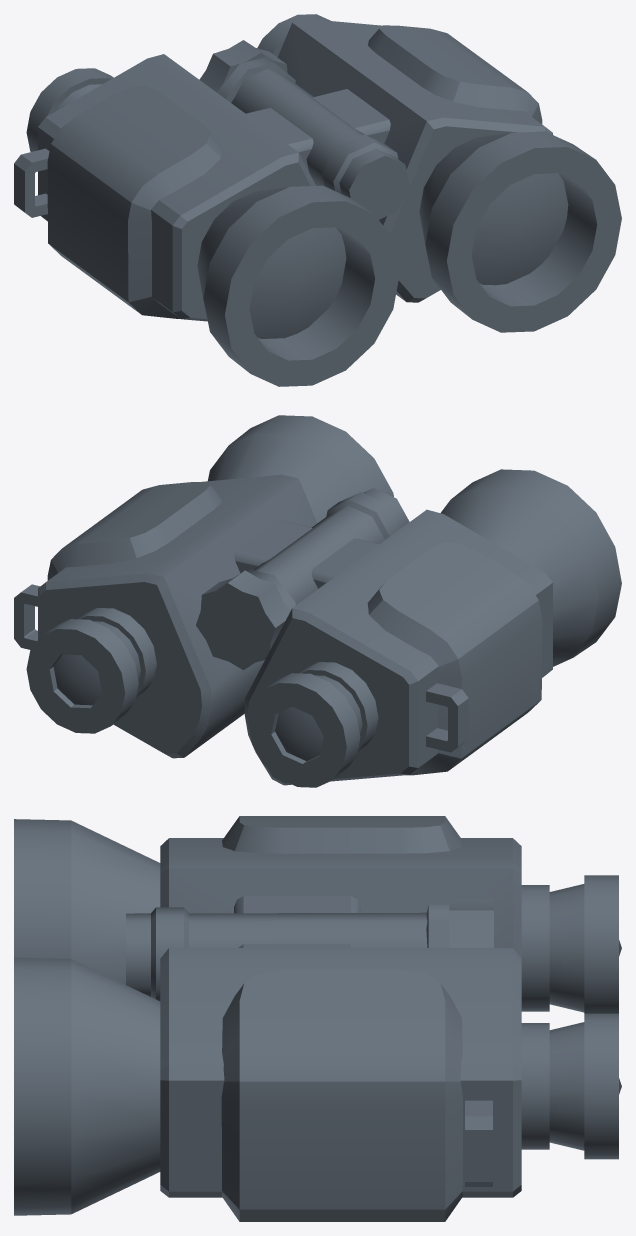
File: char_npc_scoutfarmer_binoculars.fbx
3 views of the same model, one above another, from view 1: azimuth 30°, elevation 25°; view 2: azimuth 150°, elevation 25°; view 3: azimuth 270°, elevation 25° (orthographic). The views are drawn at different scales.
Parts seen in each view (by area): view 1: char_npc_scoutfarmer_binoculars; view 2: char_npc_scoutfarmer_binoculars; view 3: char_npc_scoutfarmer_binoculars.
Boxes of the visible parts, x1=… form: char_npc_scoutfarmer_binoculars: x1=14, y1=14, x2=621, y2=386; char_npc_scoutfarmer_binoculars: x1=14, y1=415, x2=621, y2=787; char_npc_scoutfarmer_binoculars: x1=14, y1=816, x2=621, y2=1221.
Bounding box in the file's own units: 2.14 × 0.8605 × 1.99.
